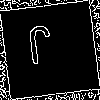J: (24, 25, 55, 75)
